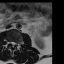CCS_normal: (12, 40, 14, 49)
LFS_severe_stenosis: (16, 41, 18, 46)
LLS_stenosis: (14, 40, 16, 46)
RFS_stenosis: (8, 39, 10, 45)
RLS_stenosis: (10, 39, 12, 45)
